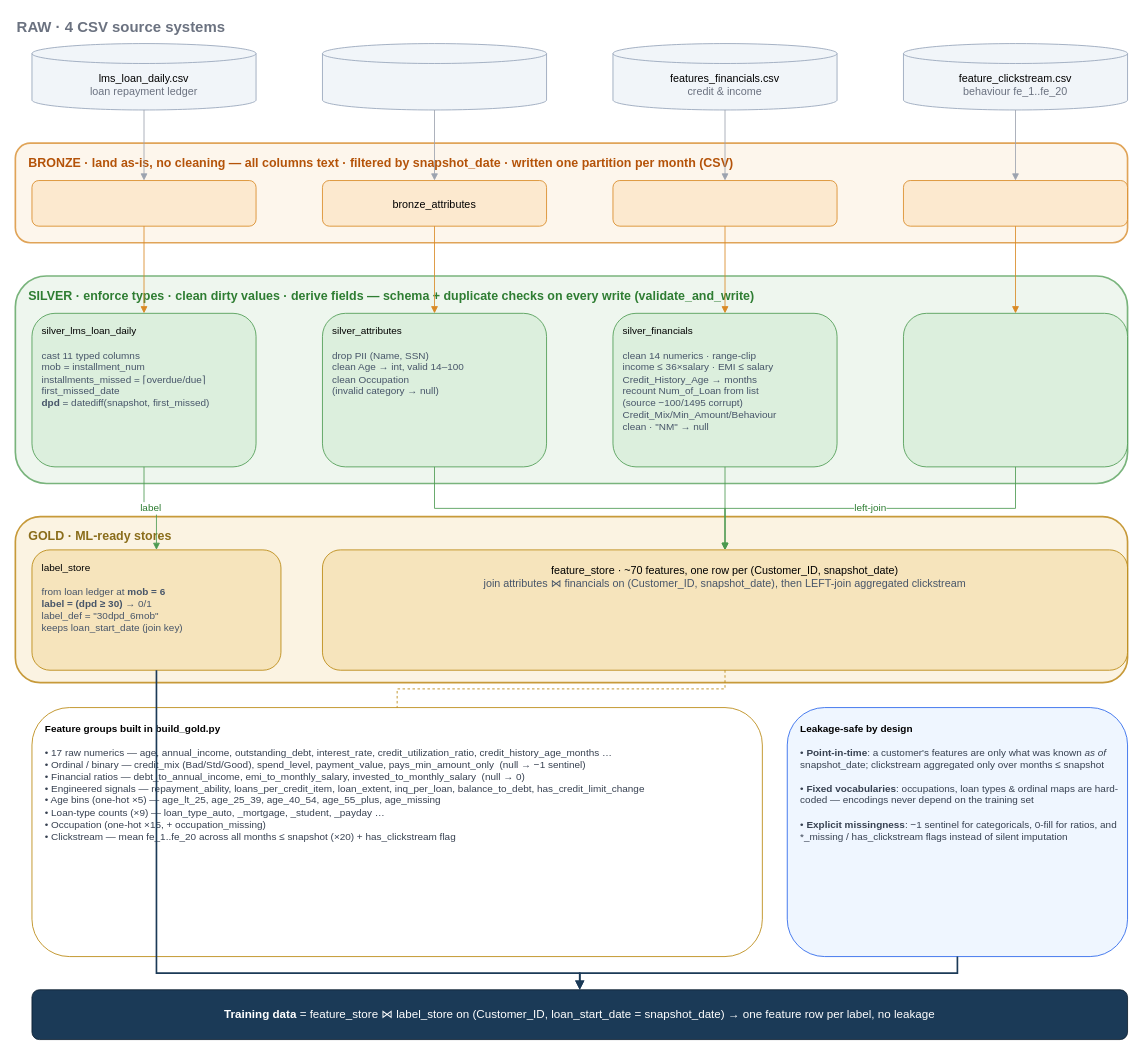
Some shapes in this 1142 by 1054 pixel diagram are drawn without their labels. Here are the shapes that lost their labels. From the top down, the centre of each, then its label:
At (x=434, y=76): "features_attributes.csv demographics".
At (x=143, y=203): "bronze_lms_loan_daily".
At (x=724, y=203): "bronze_financials".
At (x=1015, y=203): "bronze_clickstream".
At (x=1015, y=389): "silver_clickstream cast fe_1..fe_20 → int dedup on (Customer_ID, snapshot_date)".
